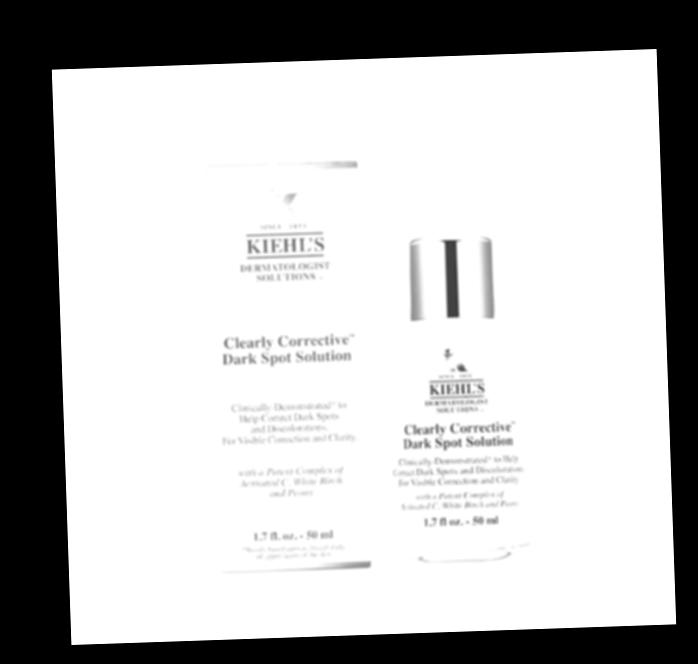cosmetic: (388, 164, 527, 552)
